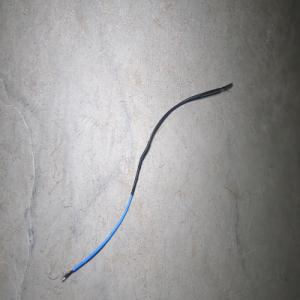Wire: (61, 82, 232, 283)
